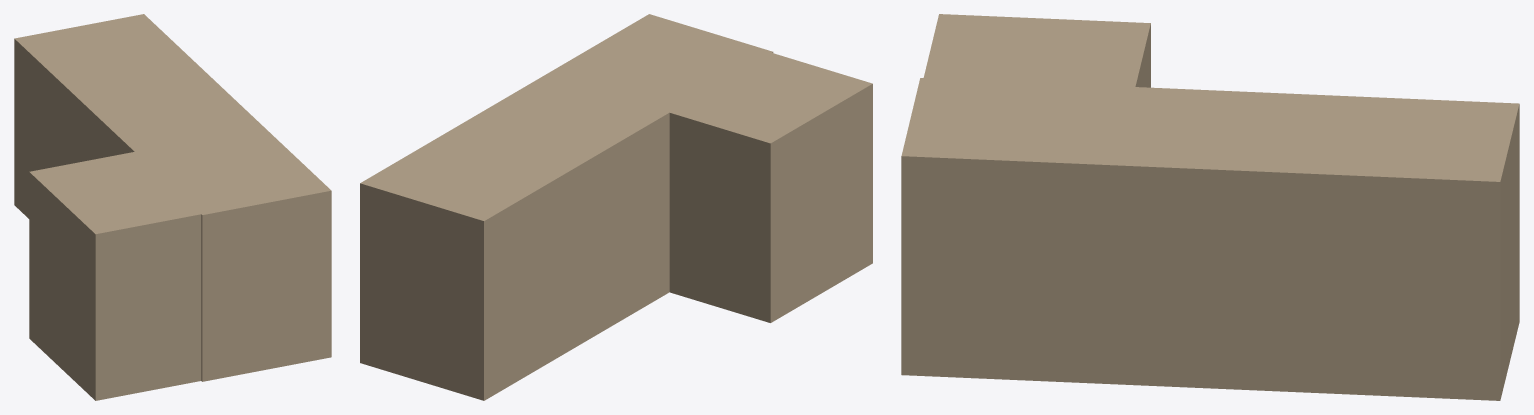
The model's file is bld_108400862.dae.
The picture shows the model from 3 angles, left to right: view 1: azimuth 30°, elevation 25°; view 2: azimuth 150°, elevation 25°; view 3: azimuth 270°, elevation 25°; orthographic projection. The views are drawn at different scales.
Parts seen in each view (by area): view 1: bld_108400862; view 2: bld_108400862; view 3: bld_108400862.
Part boxes in pixels (bbox=[...]): bld_108400862: bbox=[14, 14, 331, 400]; bld_108400862: bbox=[360, 14, 872, 400]; bld_108400862: bbox=[901, 14, 1519, 400].
Size of the model in its own units: 13.16 by 20.46 by 8.
